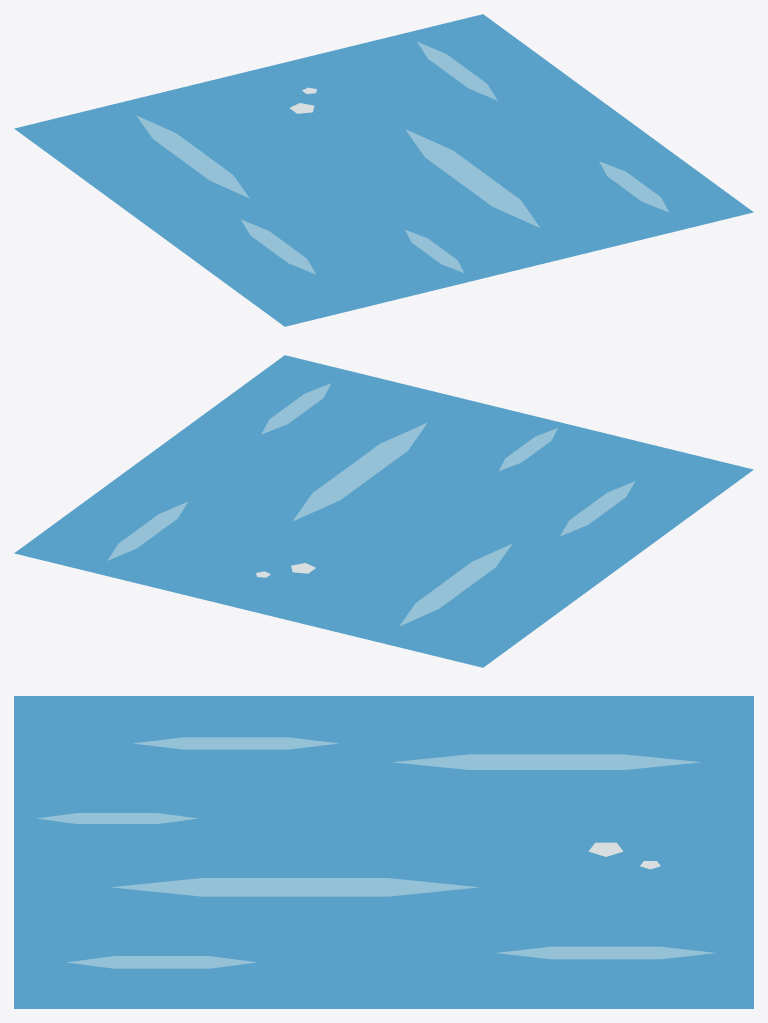
File: water_river_straight.glb
3 views of the same model, one above another, from view 1: azimuth 30°, elevation 25°; view 2: azimuth 150°, elevation 25°; view 3: azimuth 270°, elevation 25° (orthographic). The views are drawn at different scales.
Visible parts, largest first — view 1: water_river_straight; view 2: water_river_straight; view 3: water_river_straight.
Part boxes in pixels (<box>): water_river_straight: <box>14,14,753,326</box>; water_river_straight: <box>14,355,753,667</box>; water_river_straight: <box>14,696,753,1008</box>.
Bounding box in the file's own units: 1 × 0.005 × 1.
Materials: 1 (1 with a texture image).
